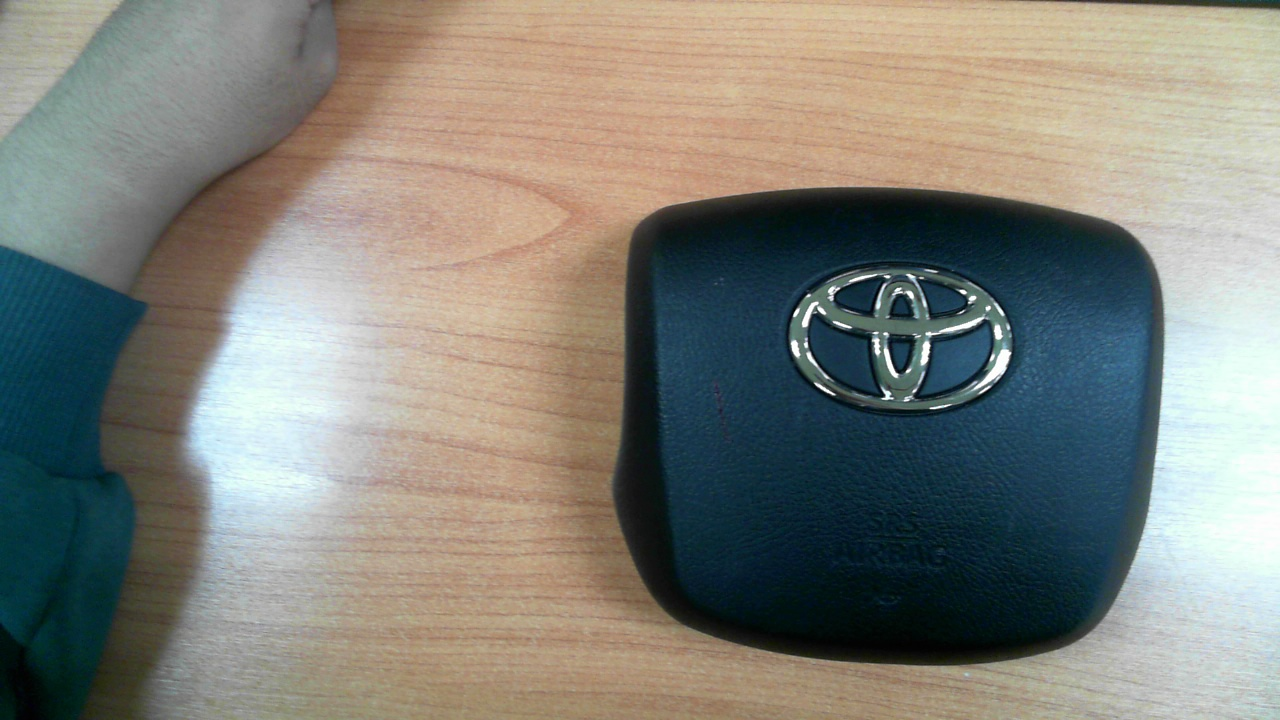Airbag: (611, 192, 1169, 661)
Toyota: (788, 260, 1013, 411)
